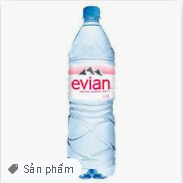Bottle: (68, 6, 117, 180)
